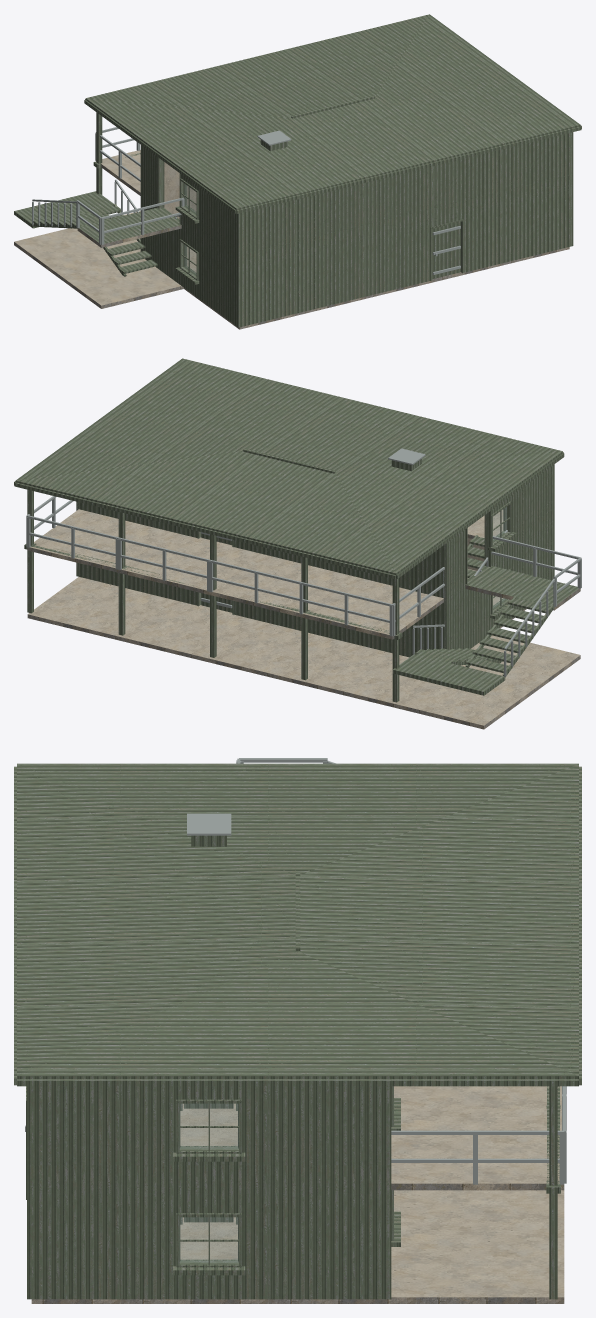
File: cyclone-officers-quarters.gltf
3 views of the same model, one above another, from view 1: azimuth 30°, elevation 25°; view 2: azimuth 150°, elevation 25°; view 3: azimuth 270°, elevation 25° (orthographic). The views are drawn at different scales.
Parts seen in each view (by area): view 1: roof-L2-metal, exterior-L0-metal, exterior-L1-metal, floor-L0-plaster, stairs-L0-metal, roof-trim-L2-metal, floor-L0-stone, datum-band-L0-metal, guards-L1-iron, walkway-L1-metal, door-L0-metal, stairs-L0-iron (+6 smaller); view 2: roof-L2-metal, floor-L0-plaster, floor-L1-plaster, exterior-L0-metal, exterior-L1-metal, stairs-L0-metal, guards-L1-iron, roof-trim-L2-metal, structure-L0-metal, floor-L0-stone, walkway-L1-metal, floor-L1-stone (+4 smaller); view 3: roof-L2-metal, exterior-L0-metal, exterior-L1-metal, floor-L0-plaster, floor-L1-plaster, roof-trim-L2-metal, floor-L0-stone, guards-L1-iron, datum-band-L0-metal, glazing-L0-glass, glazing-L1-glass, facade-trim-L0-metal (+5 smaller).
Part boxes in pixels (x1,y1,x2,y2): roof-L2-metal: (85, 14, 580, 210); exterior-L0-metal: (140, 188, 573, 327); exterior-L1-metal: (140, 132, 573, 266); floor-L0-plaster: (14, 211, 196, 305); stairs-L0-metal: (14, 191, 179, 276); roof-trim-L2-metal: (84, 96, 581, 213); floor-L0-stone: (14, 242, 569, 329); datum-band-L0-metal: (140, 185, 573, 269); guards-L1-iron: (76, 127, 184, 244); walkway-L1-metal: (79, 207, 180, 243); door-L0-metal: (432, 222, 460, 278); stairs-L0-iron: (32, 179, 179, 239); roof-L2-metal: (15, 358, 562, 574); floor-L0-plaster: (28, 569, 580, 725); floor-L1-plaster: (30, 509, 503, 634); exterior-L0-metal: (76, 524, 554, 657); exterior-L1-metal: (76, 464, 554, 598); stairs-L0-metal: (392, 535, 554, 695); guards-L1-iron: (26, 496, 581, 636); roof-trim-L2-metal: (14, 448, 564, 579); structure-L0-metal: (24, 543, 402, 702); floor-L0-stone: (27, 608, 580, 729); walkway-L1-metal: (466, 566, 578, 605); floor-L1-stone: (27, 534, 474, 639); roof-L2-metal: (17, 763, 578, 1079); exterior-L0-metal: (27, 1192, 391, 1299); exterior-L1-metal: (27, 1086, 391, 1185); floor-L0-plaster: (180, 1190, 564, 1297); floor-L1-plaster: (180, 1086, 561, 1183); roof-trim-L2-metal: (14, 766, 581, 1086); floor-L0-stone: (31, 1297, 564, 1303); guards-L1-iron: (236, 758, 566, 1184); datum-band-L0-metal: (27, 1185, 391, 1192); glazing-L0-glass: (180, 1217, 238, 1262); glazing-L1-glass: (180, 1104, 238, 1148); facade-trim-L0-metal: (173, 1190, 400, 1275).
Bounding box in the file's own units: 15.34 × 4.76 × 9.6.
5 materials, 3 textured.
